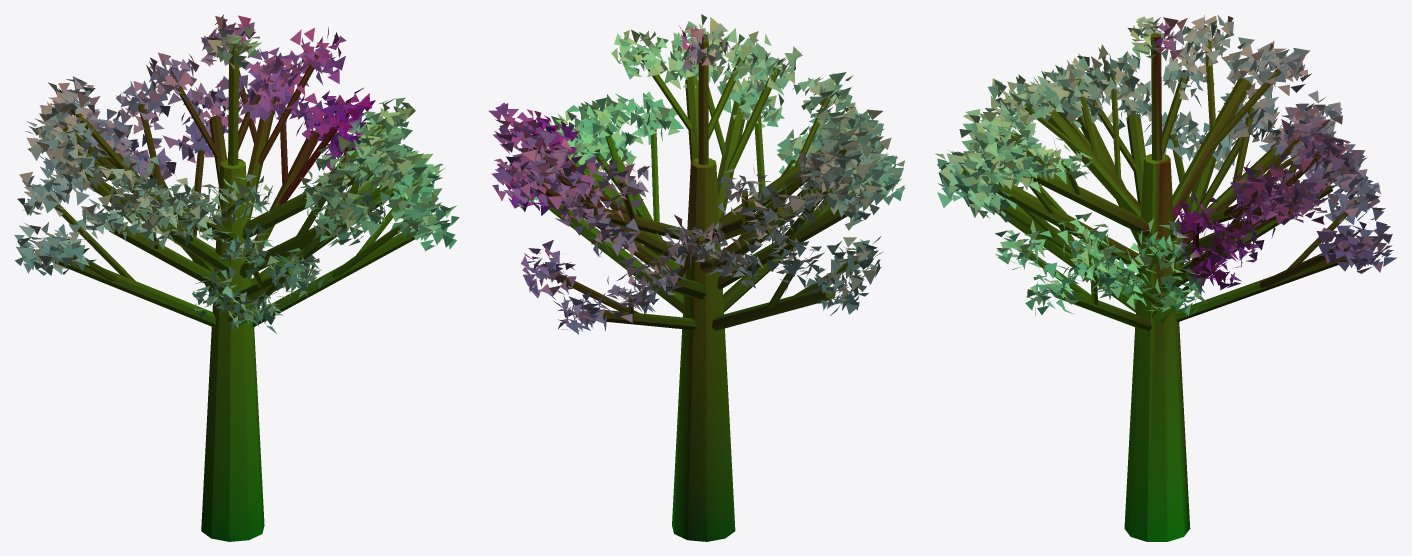
The model's file is ecological_broadleaf_ancient_02.glb.
3 views of the same model, side by side, from view 1: azimuth 30°, elevation 25°; view 2: azimuth 150°, elevation 25°; view 3: azimuth 270°, elevation 25° (orthographic).
Visible parts, largest first — view 1: ecological_broadleaf_ancient_02; view 2: ecological_broadleaf_ancient_02; view 3: ecological_broadleaf_ancient_02.
Boxes of the visible parts, x1=… form: ecological_broadleaf_ancient_02: x1=14, y1=14, x2=459, y2=541; ecological_broadleaf_ancient_02: x1=488, y1=14, x2=905, y2=541; ecological_broadleaf_ancient_02: x1=935, y1=15, x2=1396, y2=541.
Size of the model in its own units: 30.91 by 39.7 by 32.57.
